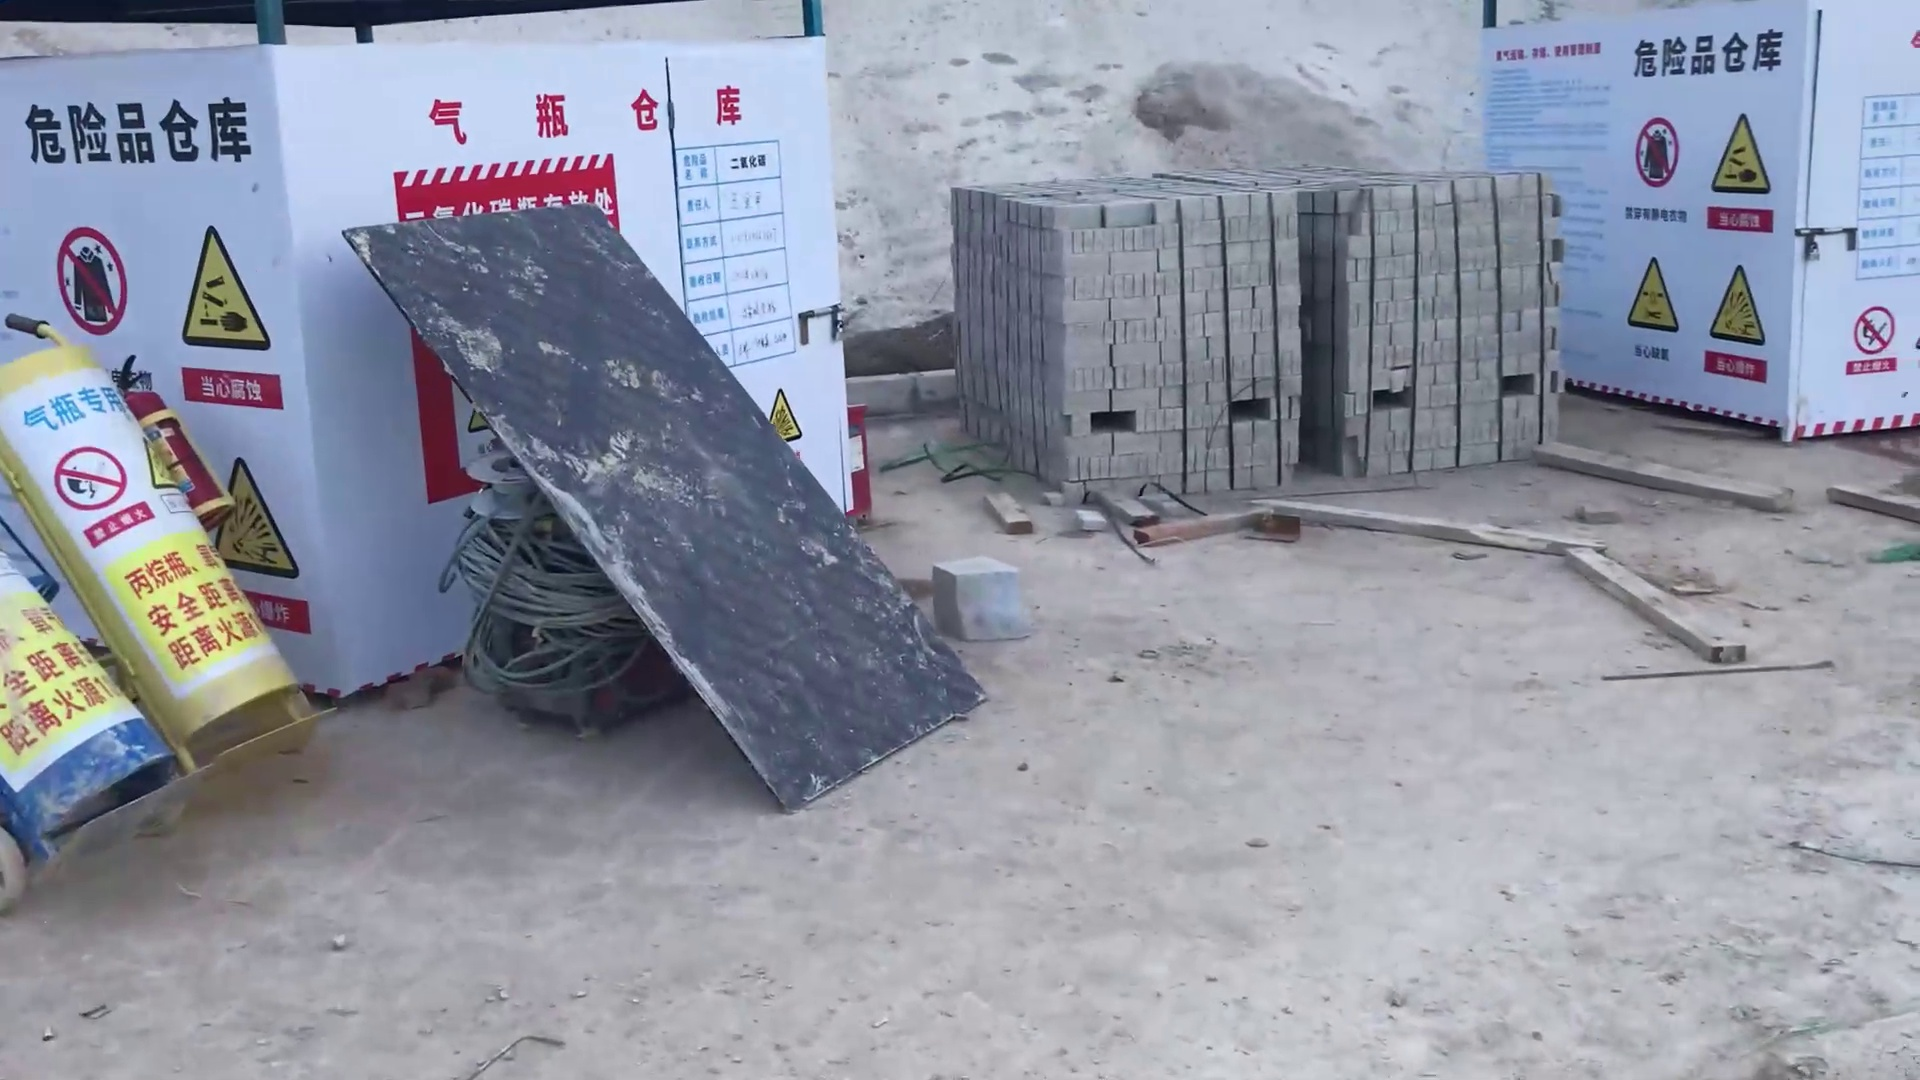board: (343, 190, 971, 808)
brick: (887, 123, 1619, 516)
slogan: (11, 84, 289, 446), (1621, 30, 1818, 405), (34, 431, 175, 570), (1822, 301, 1920, 429)
